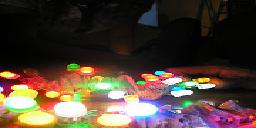LED: (122, 102, 161, 128), (52, 102, 91, 124), (5, 95, 39, 114), (81, 66, 96, 76), (66, 63, 79, 73)
